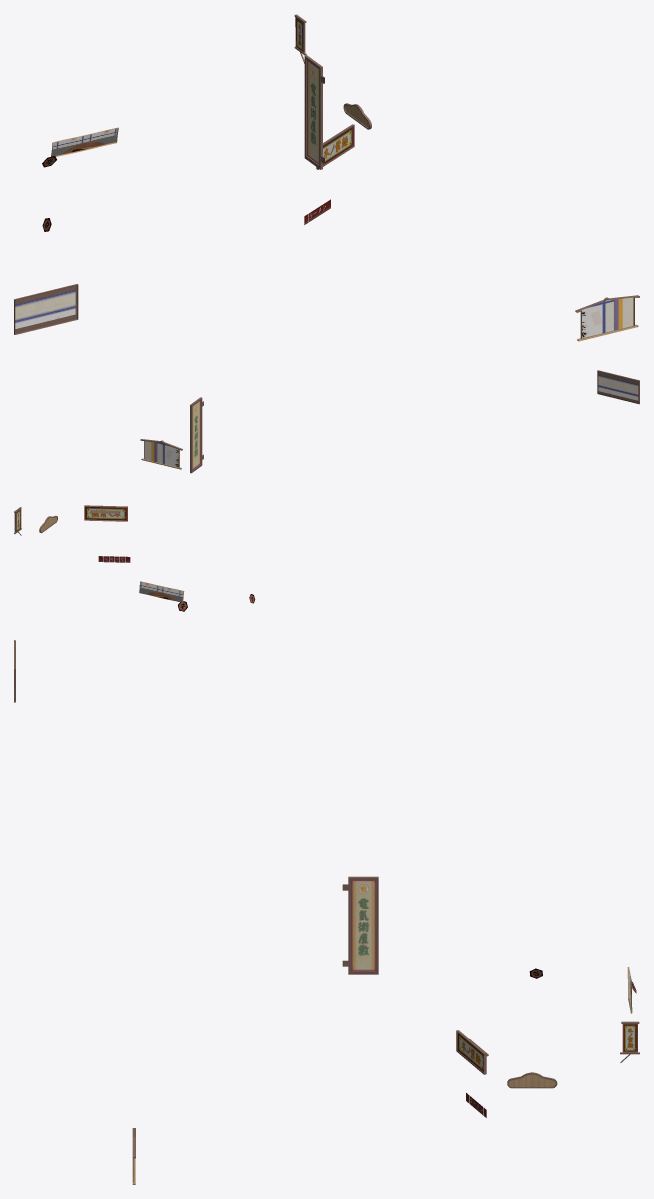
Rendered from SM_ENV_KNVLLG_Signs_7.fbx.
3 renders of one model, top to bottom at view 1: azimuth 30°, elevation 25°; view 2: azimuth 150°, elevation 25°; view 3: azimuth 270°, elevation 25°, orthographic. The views are drawn at different scales.
Visible parts, largest first — view 1: SM_ENV_KNVLLG_Signs_7.mo; view 2: SM_ENV_KNVLLG_Signs_7.mo; view 3: SM_ENV_KNVLLG_Signs_7.mo.
Part boxes in pixels (x1,y1,x2,y2): SM_ENV_KNVLLG_Signs_7.mo: (14, 14, 639, 341); SM_ENV_KNVLLG_Signs_7.mo: (14, 370, 639, 611); SM_ENV_KNVLLG_Signs_7.mo: (14, 640, 639, 1184).
Size of the model in its own units: 9676 by 3229 by 8048.
